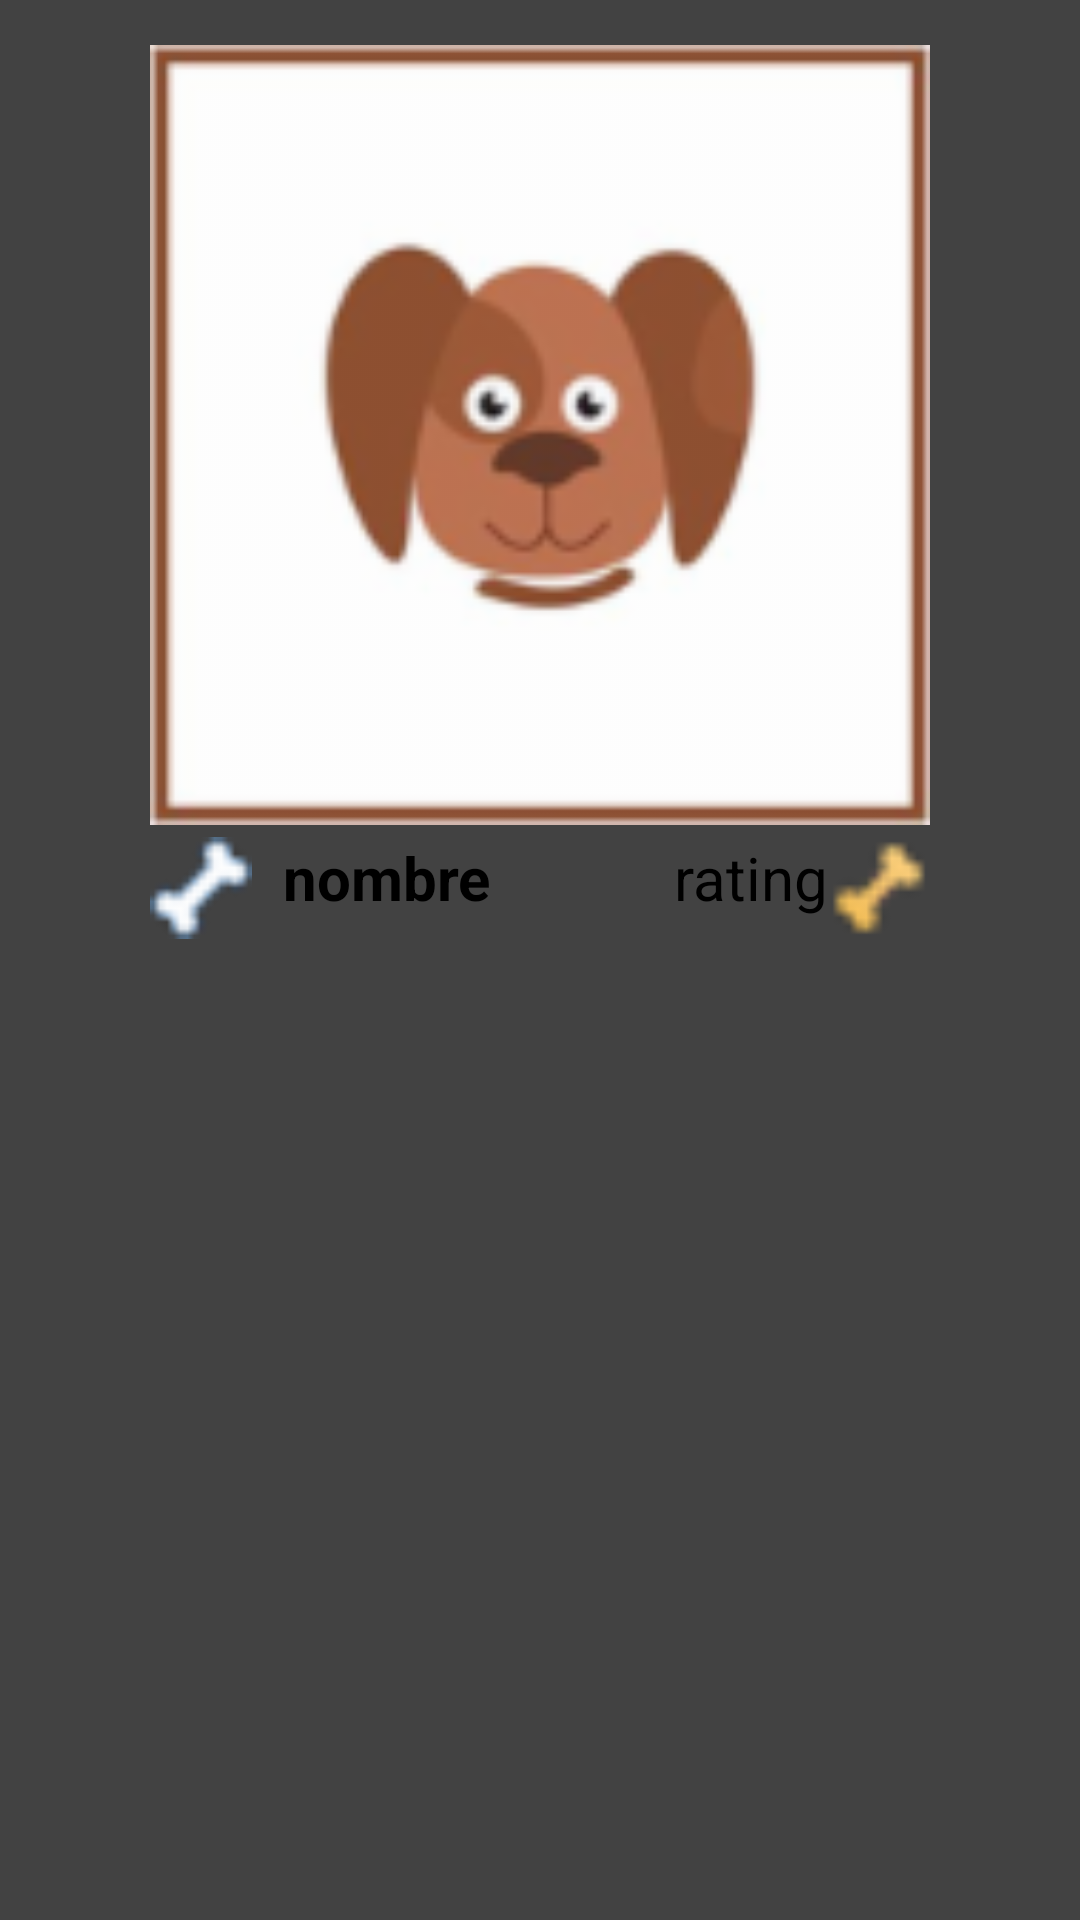

Screen size 1080 × 1920. Icon name, then its box in pixels as (x1, y1, x2, y2):
hueso blanco: (150, 837, 252, 939)
hueso dorado: (834, 843, 924, 933)
